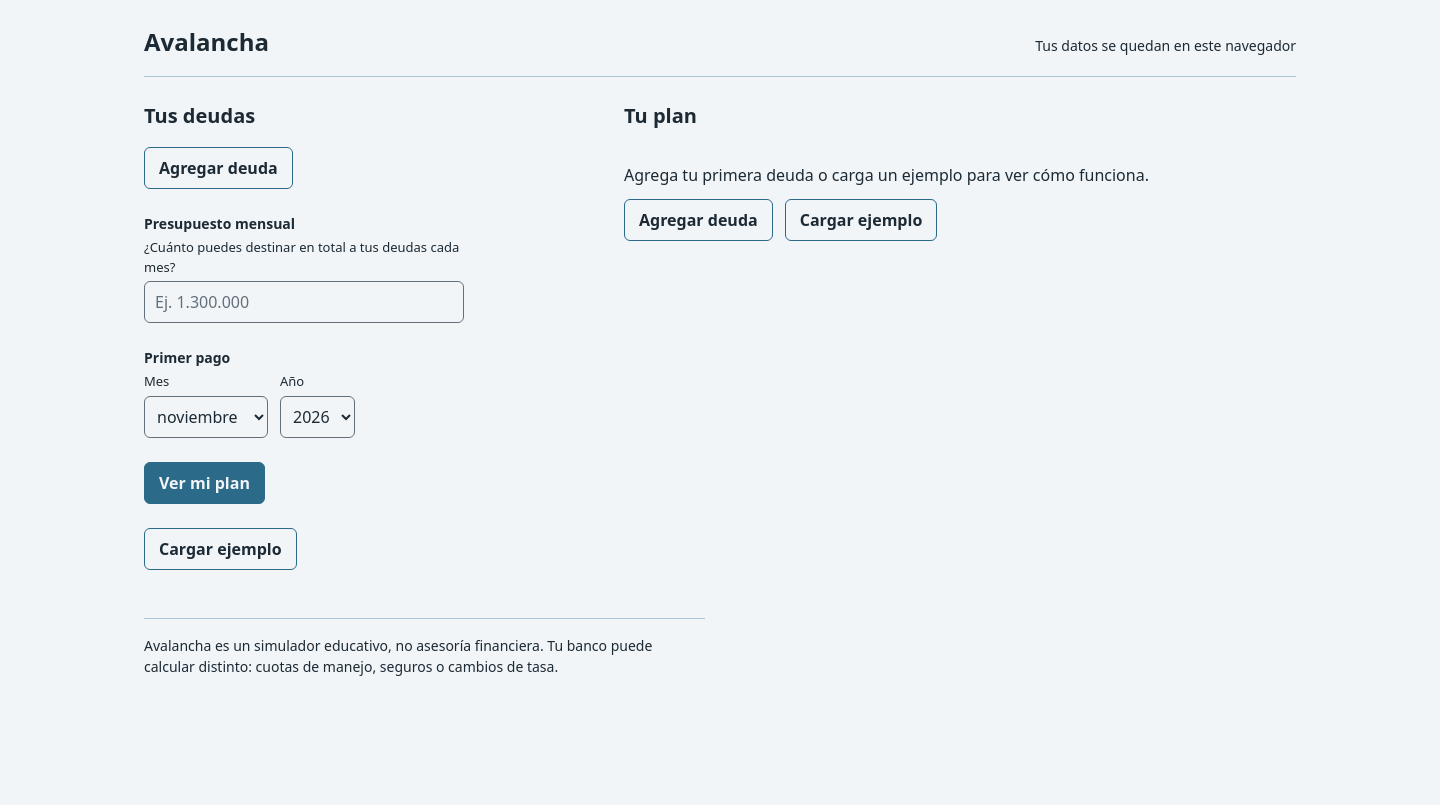
Test: App › shows the live rate equivalence, flips it for M.V., and hides it when empty
Click the 1st button "Agregar deuda" at (218, 168), box [144, 147, 293, 189]
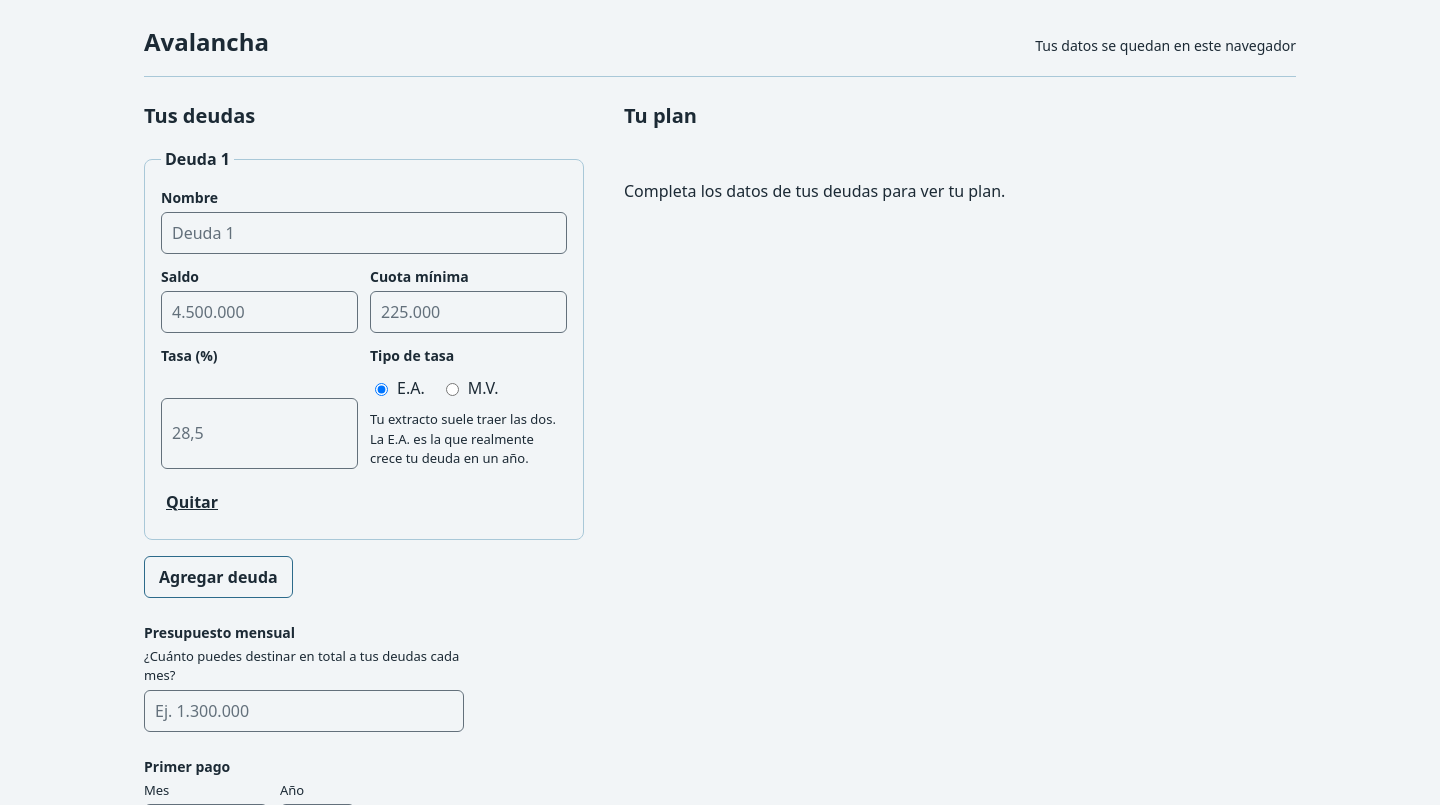
Type "28" into the field labelled "Tasa (%)" at (260, 433), box [161, 398, 358, 469]
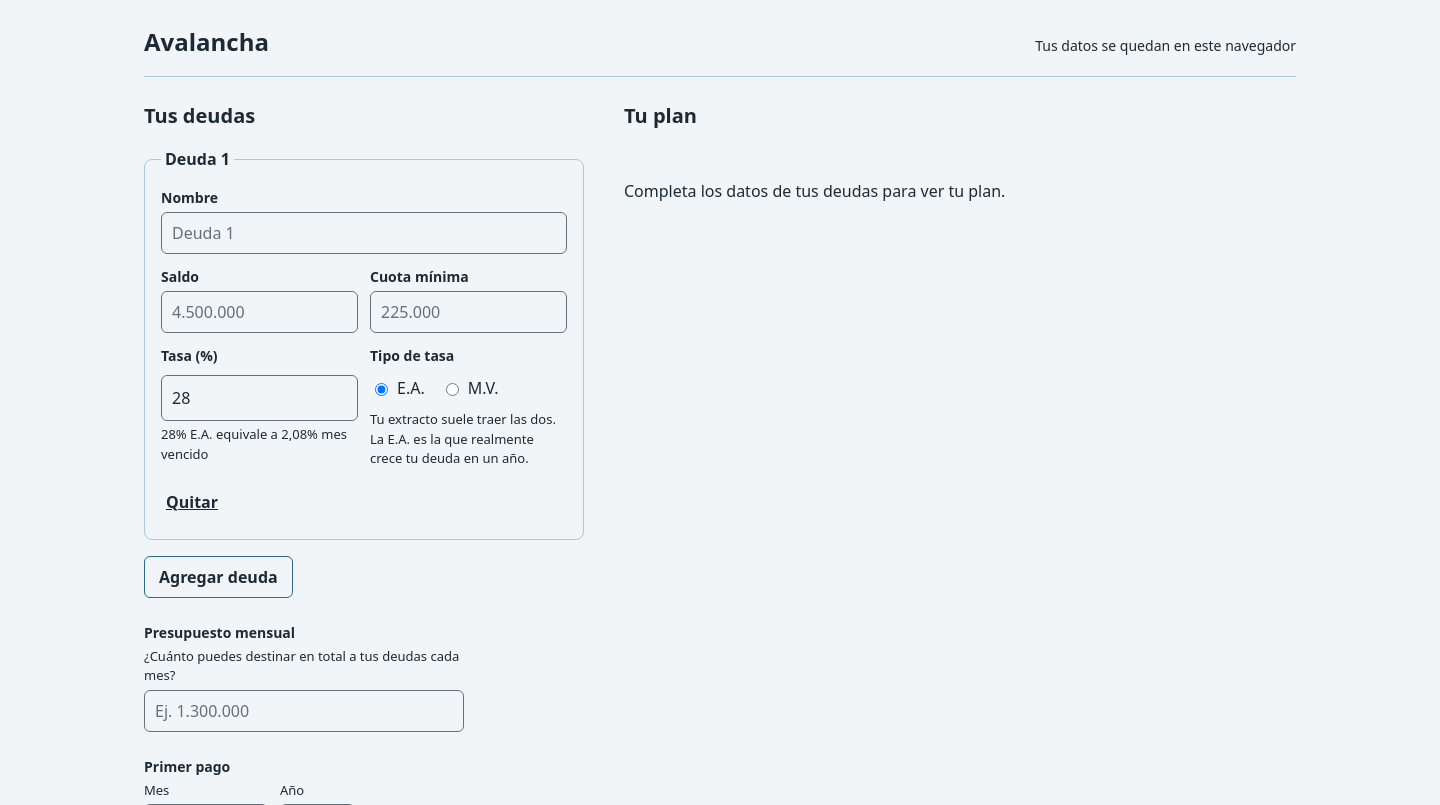
Click the radio button labelled "M.V." at (452, 390), box [446, 383, 459, 396]
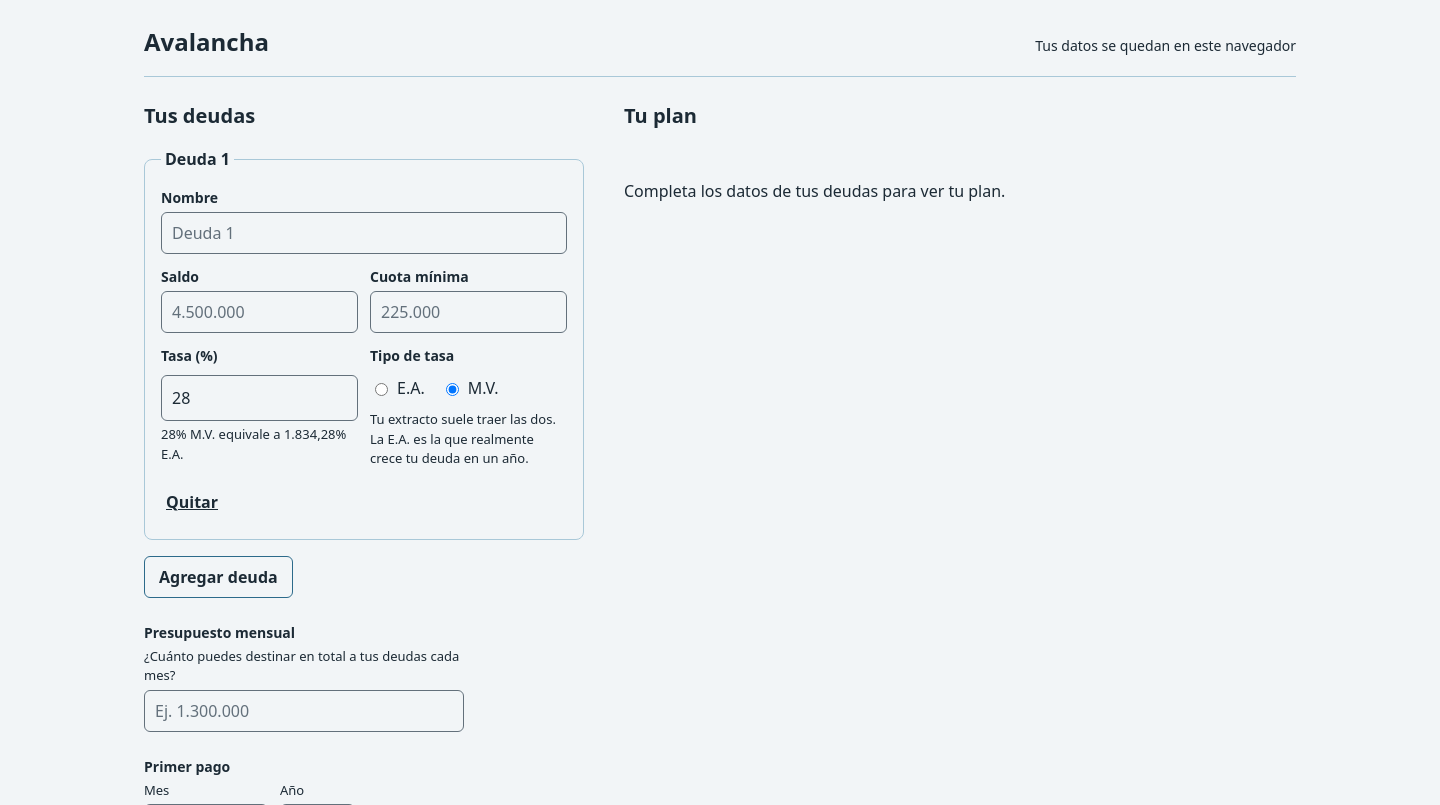
Replace the text in the field labelled "Tasa (%)" with "2" at (260, 398), box [161, 374, 358, 421]
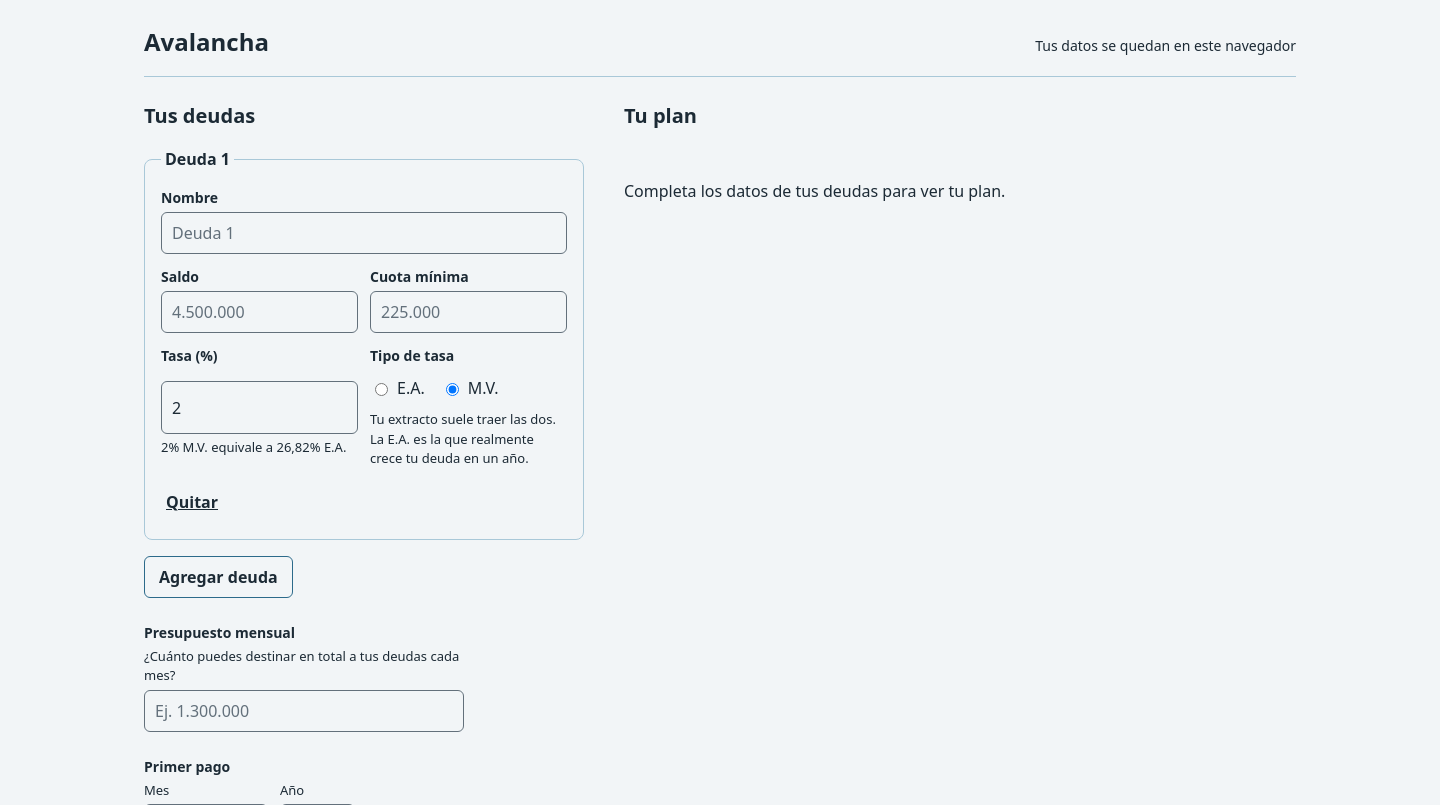
Clear the field labelled "Tasa (%)" at (260, 408), box [161, 381, 358, 434]
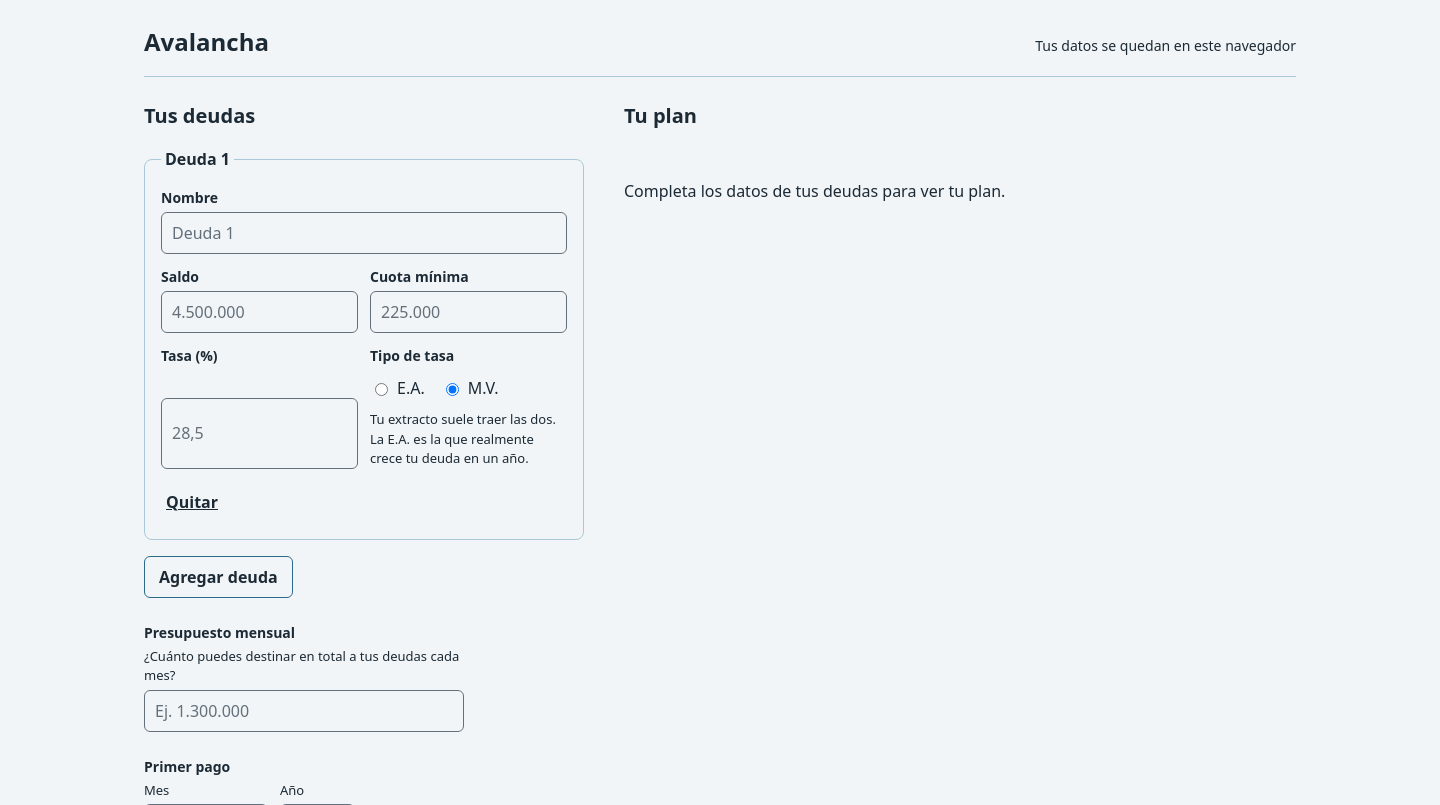
Expected: the text "equivale a" is gone
